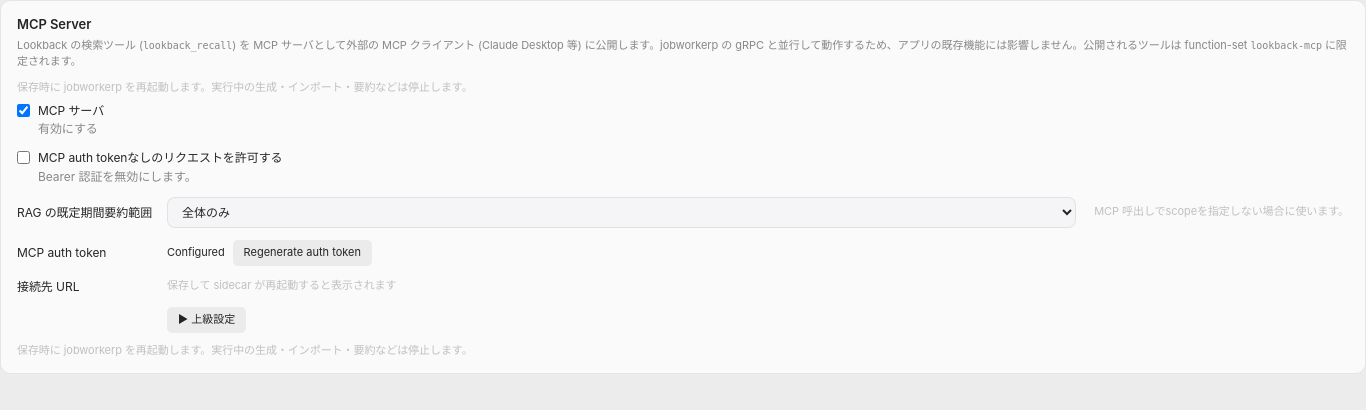
Test: McpServerCard › defers rotating an existing token until save when MCP is enabled
expect the text "Configured" is shown: met, box [167, 245, 225, 261]
Click the button "Regenerate auth token" at (302, 253), box [233, 240, 372, 266]
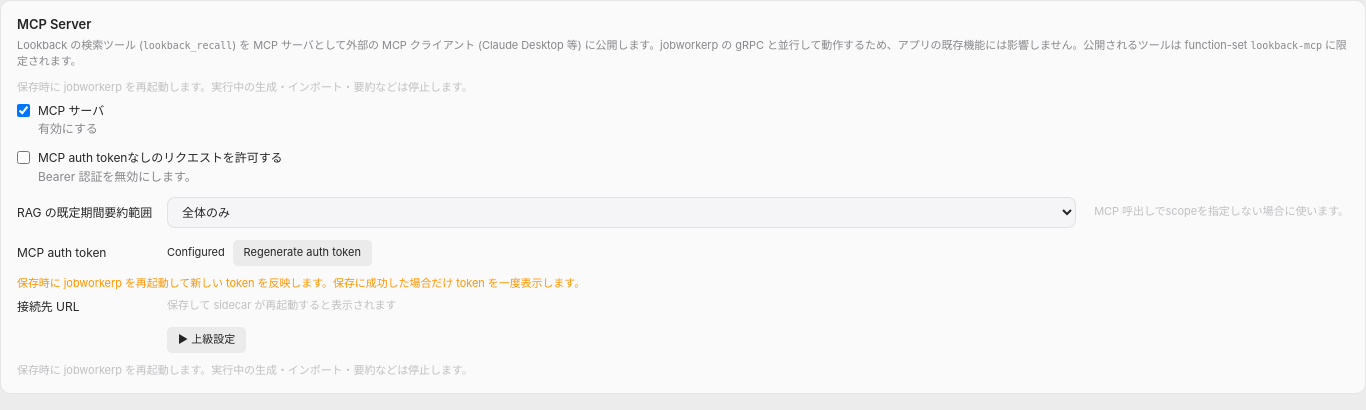
expect the text "保存時に jobworkerp を再起動して新しい token を反映します" is shown: met, box [17, 276, 585, 290]
